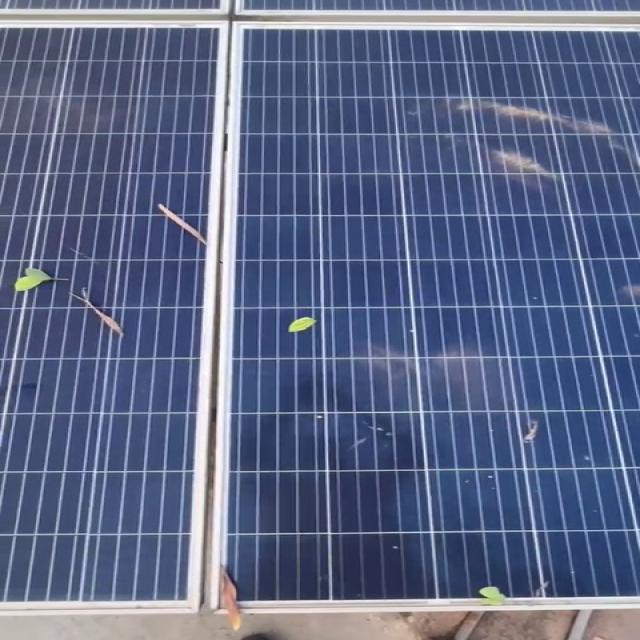bird_dropping: (344, 417, 399, 456), (518, 410, 550, 444)
dust_partical: (421, 86, 640, 192), (336, 342, 522, 389), (7, 80, 148, 130), (602, 280, 640, 302)
old_leaf: (154, 196, 216, 253), (72, 291, 136, 340), (210, 566, 248, 635), (7, 263, 65, 291), (272, 313, 322, 337), (466, 582, 518, 605)
